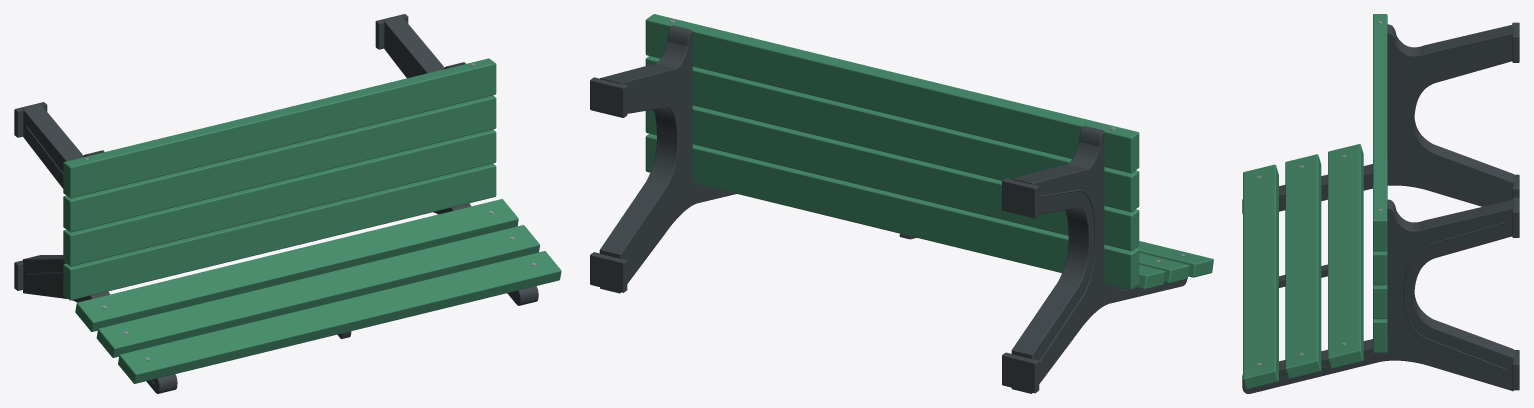
File: banca.glb
The picture shows the model from 3 angles, left to right: view 1: azimuth 30°, elevation 25°; view 2: azimuth 150°, elevation 25°; view 3: azimuth 270°, elevation 25°; orthographic projection. The views are drawn at different scales.
Parts seen in each view (by area): view 1: asiento_04, asiento_03, asiento_01, asiento_02, respaldo_03, respaldo_02, respaldo_01, estructura_izquierdo, estructura_derecho; view 2: asiento_04, asiento_01, asiento_03, asiento_02, estructura_izquierdo, estructura_derecho, base_derecho_0, base_izquierdo_0, base_izquierdo_1, base_derecho_1, respaldo_03, respaldo_02 (+1 smaller); view 3: estructura_derecho, estructura_izquierdo, respaldo_02, respaldo_03, respaldo_01, asiento_04, moldura_arco_derecho, asiento_03, asiento_02, asiento_01, base_izquierdo_1, base_derecho_1 (+1 smaller).
Boxes of the visible parts, <box> form: asiento_04: <box>63,58,496,198</box>; asiento_03: <box>63,95,496,232</box>; asiento_01: <box>63,163,496,300</box>; asiento_02: <box>63,129,496,266</box>; respaldo_03: <box>118,251,561,383</box>; respaldo_02: <box>96,225,539,357</box>; respaldo_01: <box>75,199,518,331</box>; estructura_izquierdo: <box>23,104,177,393</box>; estructura_derecho: <box>384,16,538,305</box>; asiento_04: <box>645,14,1139,173</box>; asiento_01: <box>645,133,1139,289</box>; asiento_03: <box>645,56,1139,212</box>; asiento_02: <box>645,105,1139,250</box>; estructura_izquierdo: <box>1011,125,1187,393</box>; estructura_derecho: <box>599,25,736,293</box>; base_derecho_0: <box>590,252,627,292</box>; base_izquierdo_0: <box>1002,352,1039,393</box>; base_izquierdo_1: <box>1002,178,1039,218</box>; base_derecho_1: <box>590,77,627,117</box>; respaldo_03: <box>1136,241,1213,277</box>; respaldo_02: <box>1139,253,1189,283</box>; estructura_derecho: <box>1242,199,1513,393</box>; estructura_izquierdo: <box>1242,24,1513,214</box>; respaldo_02: <box>1285,154,1321,378</box>; respaldo_03: <box>1243,164,1278,389</box>; respaldo_01: <box>1328,144,1363,368</box>; asiento_04: <box>1373,14,1387,251</box>; moldura_arco_derecho: <box>1404,222,1505,370</box>; asiento_03: <box>1373,250,1387,285</box>; asiento_02: <box>1373,284,1387,319</box>; asiento_01: <box>1373,318,1387,352</box>; base_izquierdo_1: <box>1512,22,1519,62</box>; base_derecho_1: <box>1512,197,1519,237</box>.
Size of the model in its own units: 1.5 by 0.6302 by 0.85.
